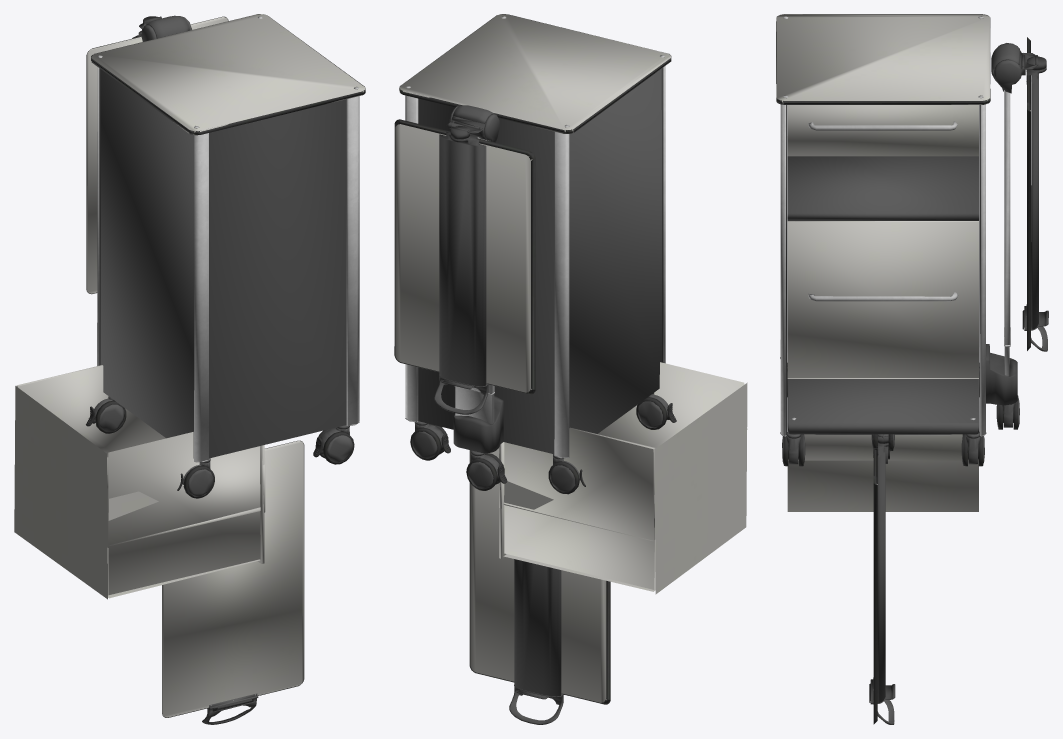
File: table_bedside_b01.glb
3 renders of one model, left to right at view 1: azimuth 30°, elevation 25°; view 2: azimuth 150°, elevation 25°; view 3: azimuth 270°, elevation 25°, orthographic. The views are drawn at different scales.
Parts seen in each view (by area): view 1: body_01_mesh_00, bottomDrawer_01_mesh_00, supportTable_01_mesh_00 (×2), topDrawer_01_mesh_00, wheel_05_mesh_00, wheel_04_mesh_00, wheel_03_mesh_00; view 2: body_01_mesh_00, supportTable_01_mesh_00 (×2), bottomDrawer_01_mesh_00, topDrawer_01_mesh_00, wheel_02_mesh_00, wheel_01_mesh_00, wheel_03_mesh_00, wheel_04_mesh_00; view 3: body_01_mesh_00, bottomDrawer_01_mesh_00 (×2), topDrawer_01_mesh_00 (×2), supportTable_01_mesh_00 (×2).
Part boxes in pixels (<box>): body_01_mesh_00: <box>91,14,365,462</box>; bottomDrawer_01_mesh_00: <box>14,365,264,599</box>; supportTable_01_mesh_00 (×2): <box>86,16,304,724</box>; topDrawer_01_mesh_00: <box>14,457,265,547</box>; wheel_05_mesh_00: <box>315,427,354,464</box>; wheel_04_mesh_00: <box>183,466,214,498</box>; wheel_03_mesh_00: <box>95,400,126,433</box>; body_01_mesh_00: <box>399,14,671,458</box>; supportTable_01_mesh_00 (×2): <box>394,119,610,724</box>; bottomDrawer_01_mesh_00: <box>499,362,747,594</box>; topDrawer_01_mesh_00: <box>499,428,747,543</box>; wheel_02_mesh_00: <box>466,453,504,490</box>; wheel_01_mesh_00: <box>410,424,448,460</box>; wheel_03_mesh_00: <box>548,461,579,494</box>; wheel_04_mesh_00: <box>636,397,667,429</box>; body_01_mesh_00: <box>776,14,1038,436</box>; bottomDrawer_01_mesh_00 (×2): <box>787,221,978,511</box>; topDrawer_01_mesh_00 (×2): <box>787,105,978,460</box>; supportTable_01_mesh_00 (×2): <box>869,37,1048,724</box>.
Size of the model in its own units: 0.6359 by 1.56 by 0.5747.
34 materials, 20 textured.
